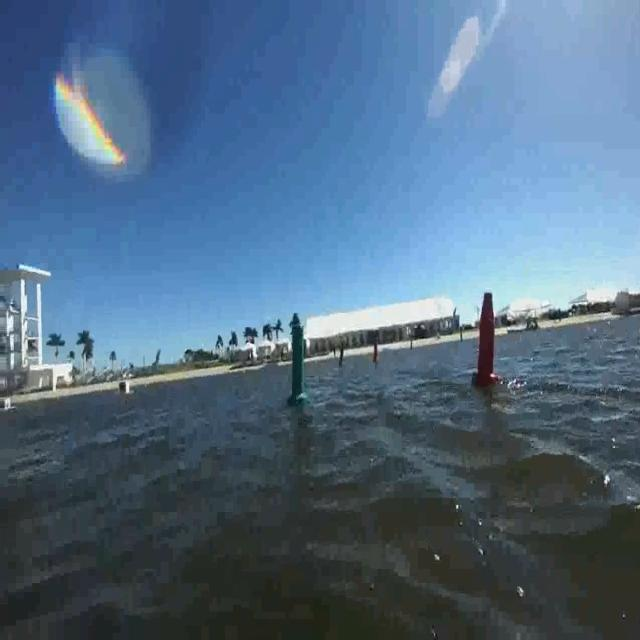green-column-buoy: (286, 315, 310, 408)
red-column-buoy: (473, 288, 500, 387), (371, 338, 380, 363)
